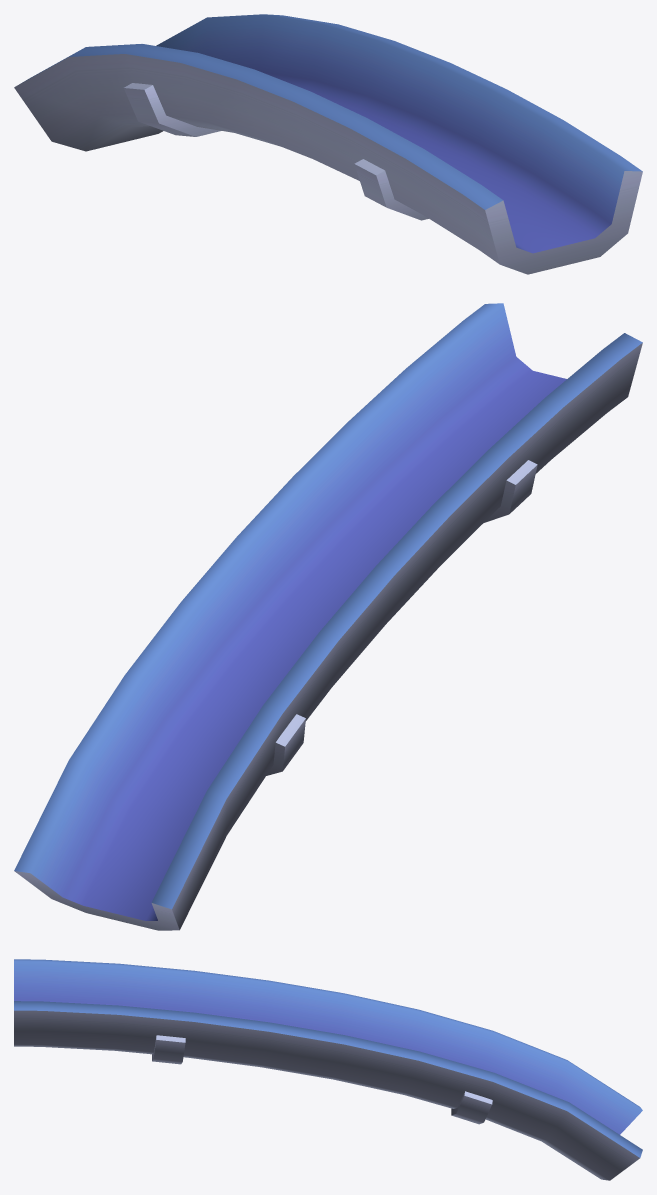
File: kenney-coaster-coaster-flume-straight-hill-end.glb
3 renders of one model, top to bottom at view 1: azimuth 30°, elevation 25°; view 2: azimuth 150°, elevation 25°; view 3: azimuth 270°, elevation 25°, orthographic. The views are drawn at different scales.
Parts seen in each view (by area): view 1: coaster-flume-straight-hill-end; view 2: coaster-flume-straight-hill-end; view 3: coaster-flume-straight-hill-end.
Boxes of the visible parts, bbox=[...] form: coaster-flume-straight-hill-end: bbox=[14, 14, 642, 274]; coaster-flume-straight-hill-end: bbox=[14, 303, 642, 930]; coaster-flume-straight-hill-end: bbox=[14, 959, 642, 1180].
Size of the model in its own units: 0.8445 by 1.4 by 4.28.
Materials: 1 (1 with a texture image).
